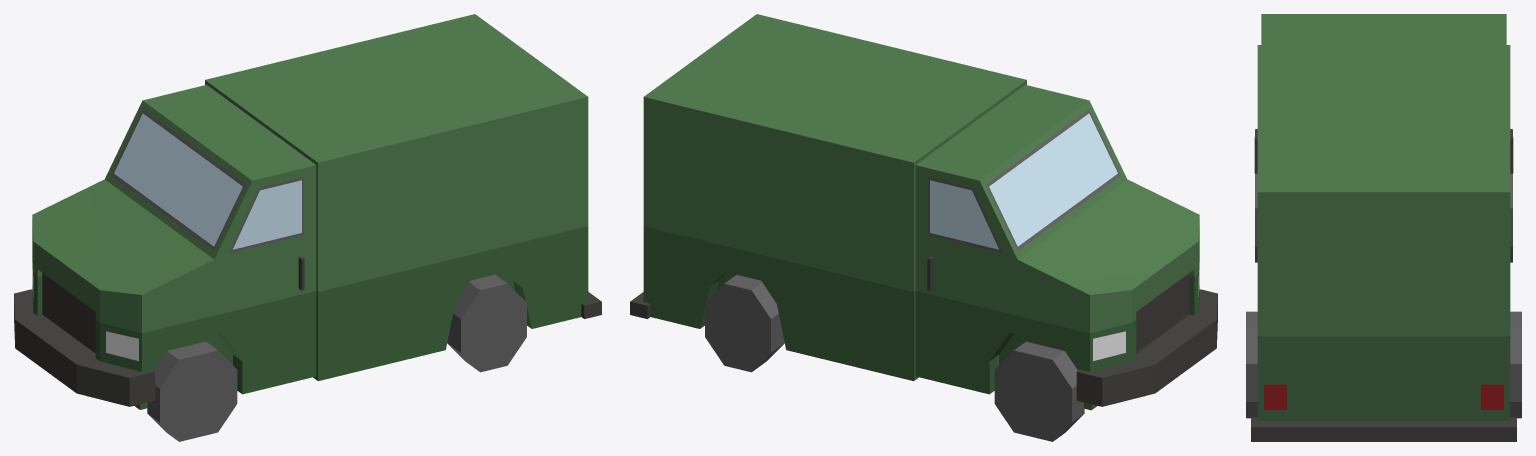
File: Truck_2.fbx
3 renders of one model, left to right at view 1: azimuth 30°, elevation 25°; view 2: azimuth 150°, elevation 25°; view 3: azimuth 270°, elevation 25°, orthographic. The views are drawn at different scales.
Parts seen in each view (by area): view 1: Truck_2; view 2: Truck_2; view 3: Truck_2.
Boxes of the visible parts, box(x1,y1,x2,y2) form: Truck_2: box(14, 14, 601, 441); Truck_2: box(630, 14, 1217, 441); Truck_2: box(1246, 14, 1521, 441).
Size of the model in its own units: 7.79 by 3.66 by 3.36.
1 material, 1 textured.
